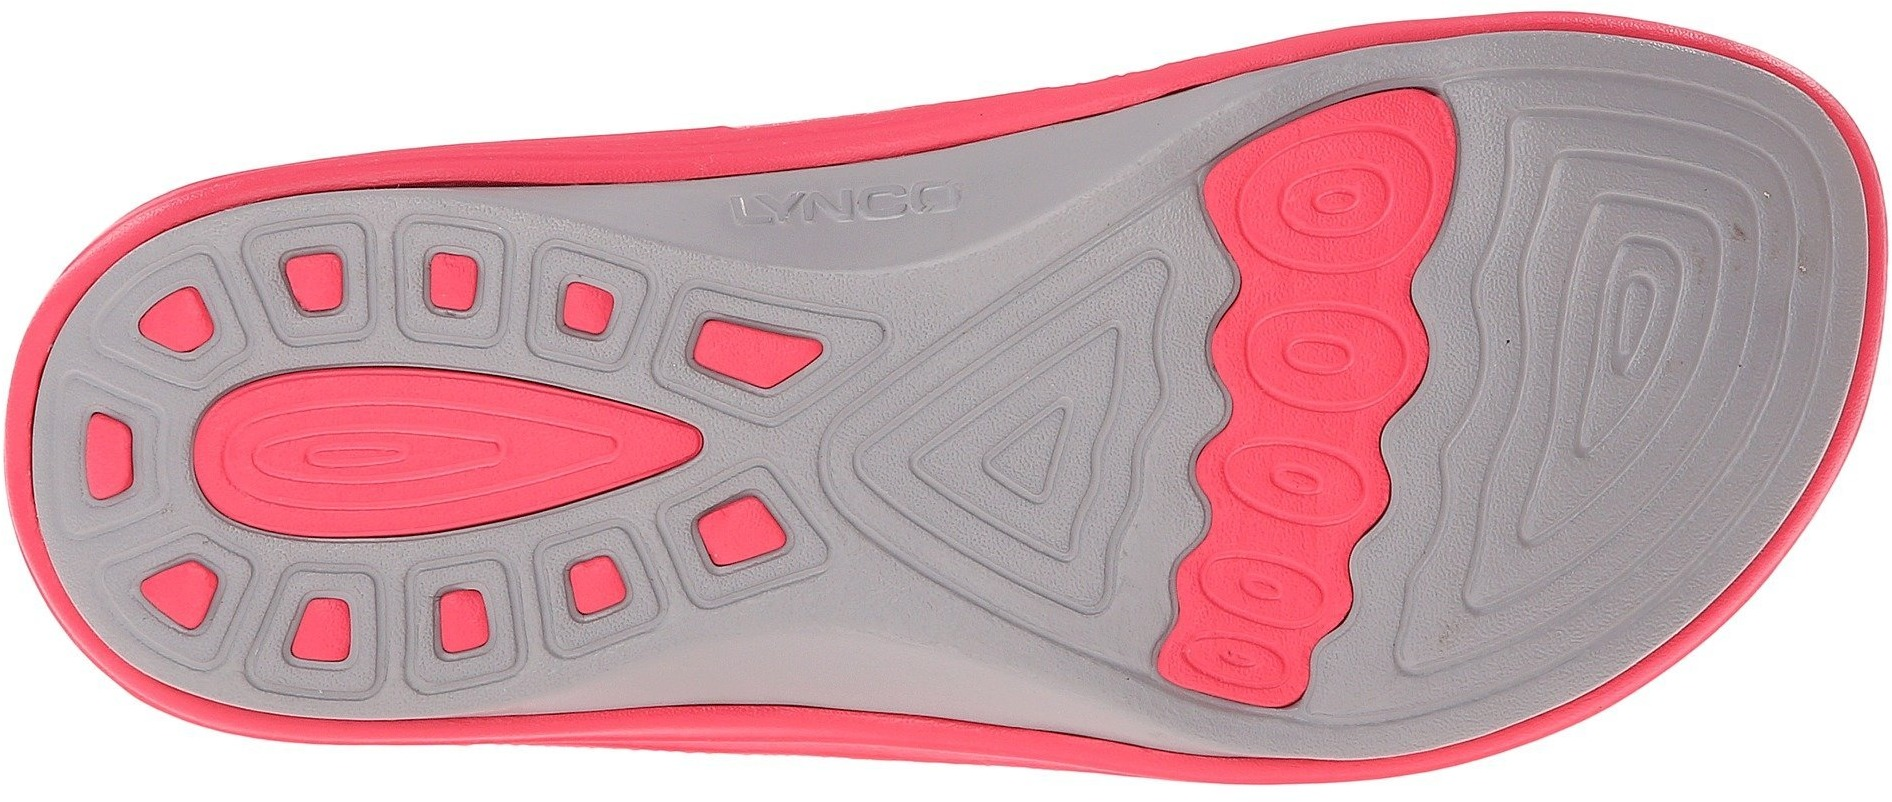quad: (424, 211, 618, 396), (292, 543, 462, 718)
triangle: (881, 335, 1125, 593)
